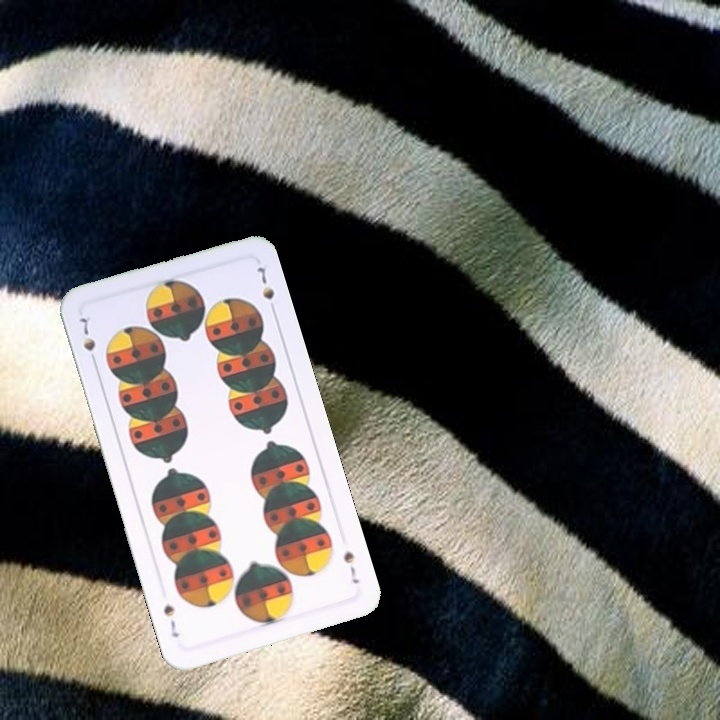S7: (75, 313, 100, 368), (339, 547, 362, 587)
